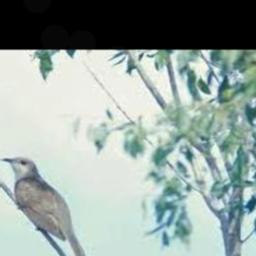Cuckoo: (0, 157, 92, 256)
